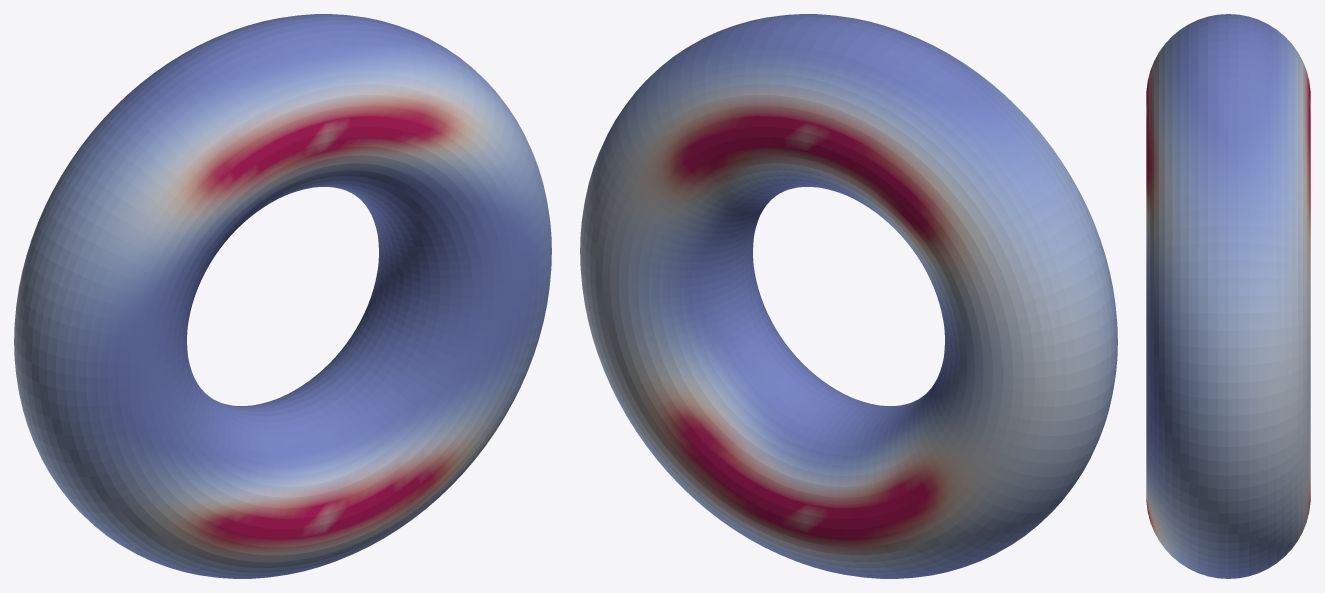
3 views of the same model, side by side, from view 1: azimuth 30°, elevation 25°; view 2: azimuth 150°, elevation 25°; view 3: azimuth 270°, elevation 25° (orthographic). The views are drawn at different scales.
Parts seen in each view (by area): view 1: world; view 2: world; view 3: world.
Part boxes in pixels (x1=…): world: x1=14, y1=14, x2=551, y2=578; world: x1=580, y1=14, x2=1117, y2=578; world: x1=1146, y1=14, x2=1310, y2=578.
Size of the model in its own units: 17.87 by 17.87 by 5.19.
